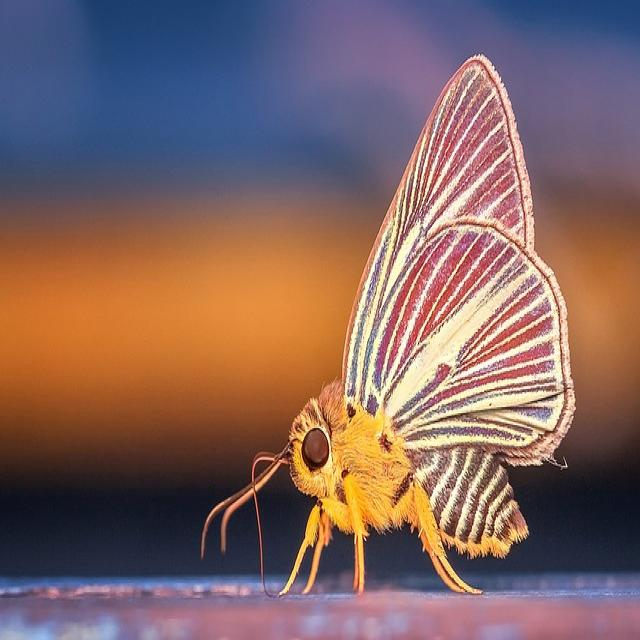butterfly: (210, 56, 575, 593)
